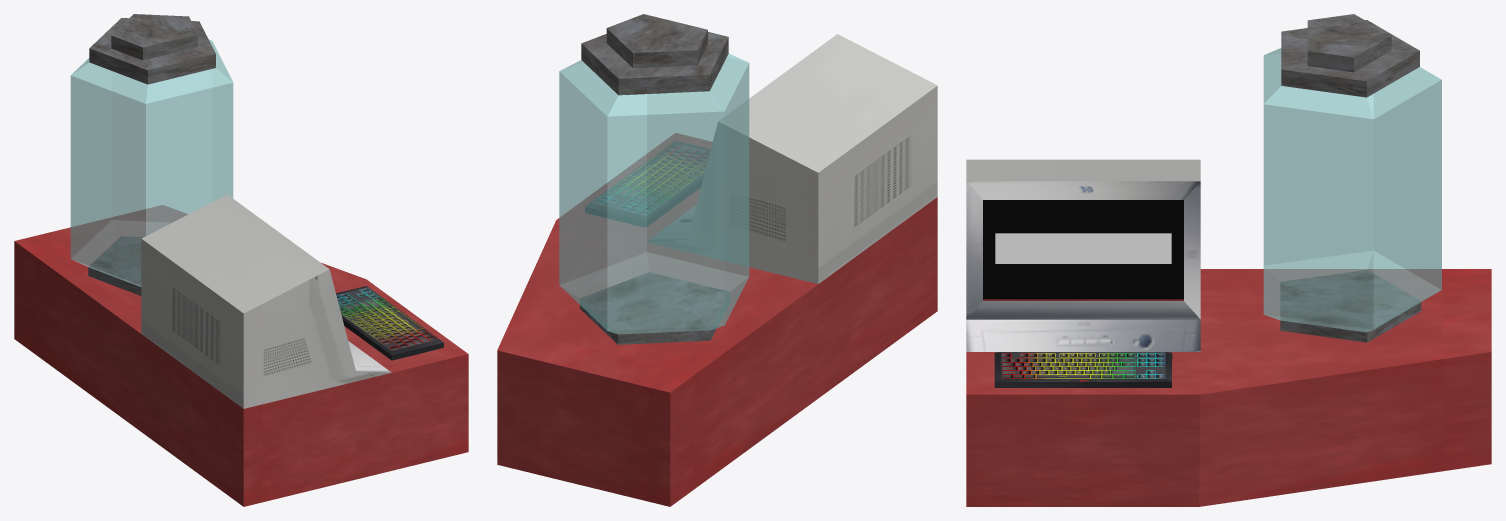
The model's file is Fart Extractor.fbx.
3 renders of one model, left to right at view 1: azimuth 30°, elevation 25°; view 2: azimuth 150°, elevation 25°; view 3: azimuth 270°, elevation 25°, orthographic. The views are drawn at different scales.
Visible parts, largest first — view 1: Cube; view 2: Cube; view 3: Cube.
Part boxes in pixels (x1,y1,x2,y2): Cube: [14, 14, 468, 506]; Cube: [497, 14, 937, 506]; Cube: [966, 14, 1491, 506].
Bounding box in the file's own units: 222 × 320 × 393.
